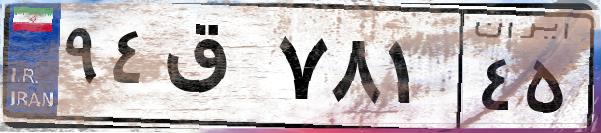1: (385, 28, 445, 110)
4: (475, 38, 525, 113), (110, 28, 158, 98)
5: (525, 38, 570, 115)
7: (270, 28, 330, 110)
8: (330, 28, 385, 110)
9: (57, 26, 110, 100)
ق: (158, 20, 270, 120)
